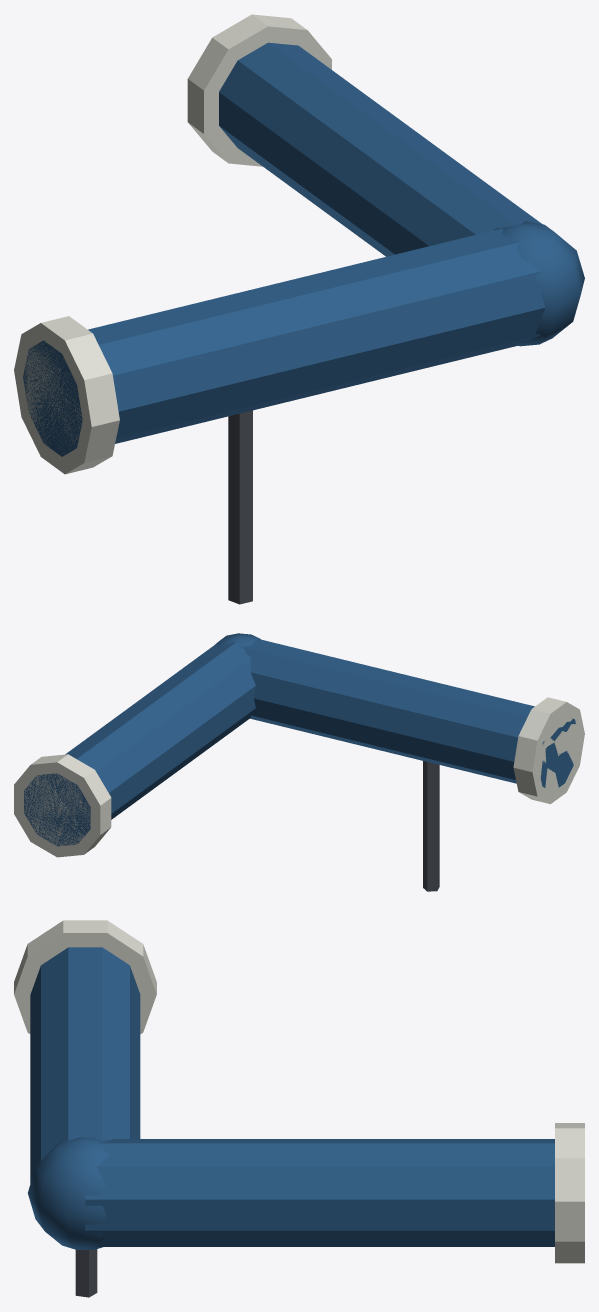
Rendered from PipeL_Corner.fbx.
3 renders of one model, top to bottom at view 1: azimuth 30°, elevation 25°; view 2: azimuth 150°, elevation 25°; view 3: azimuth 270°, elevation 25°, orthographic. The views are drawn at different scales.
Parts seen in each view (by area): view 1: PipeL_Corner_Body; view 2: PipeL_Corner_Body; view 3: PipeL_Corner_Body.
Boxes of the visible parts, x1,y1,x2,y2 form: PipeL_Corner_Body: (14, 14, 584, 604); PipeL_Corner_Body: (14, 633, 584, 891); PipeL_Corner_Body: (14, 920, 584, 1297).
Bounding box in the file's own units: 0.568 × 0.3215 × 0.5715.
